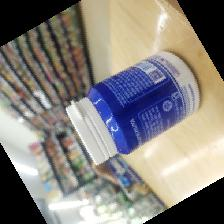Xylitol_blue: (64, 49, 200, 166)
